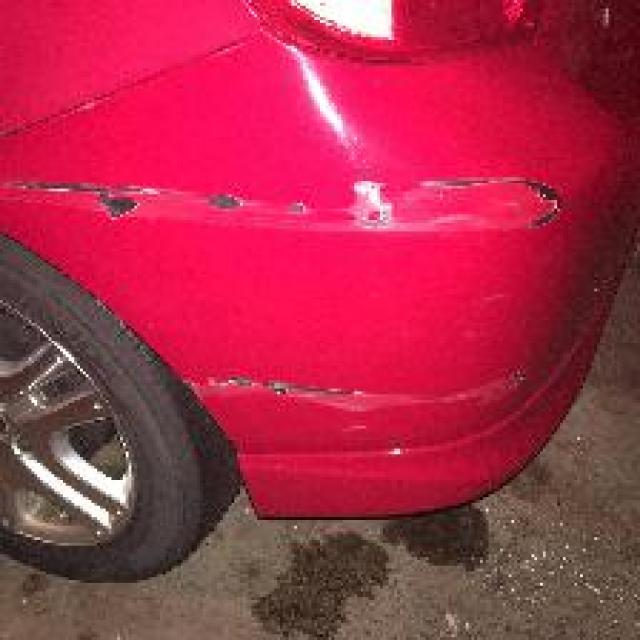bumper_scratch_moderate: (37, 177, 591, 454)
